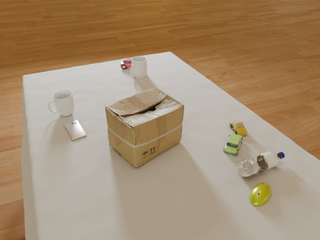bottle: (237, 152, 285, 177)
box: (105, 88, 184, 167)
cup: (48, 90, 74, 116), (130, 56, 147, 78)
mouse: (249, 183, 271, 206)
phone: (64, 120, 87, 140)
toy_car: (224, 134, 243, 155), (229, 121, 247, 136), (120, 58, 131, 69)
